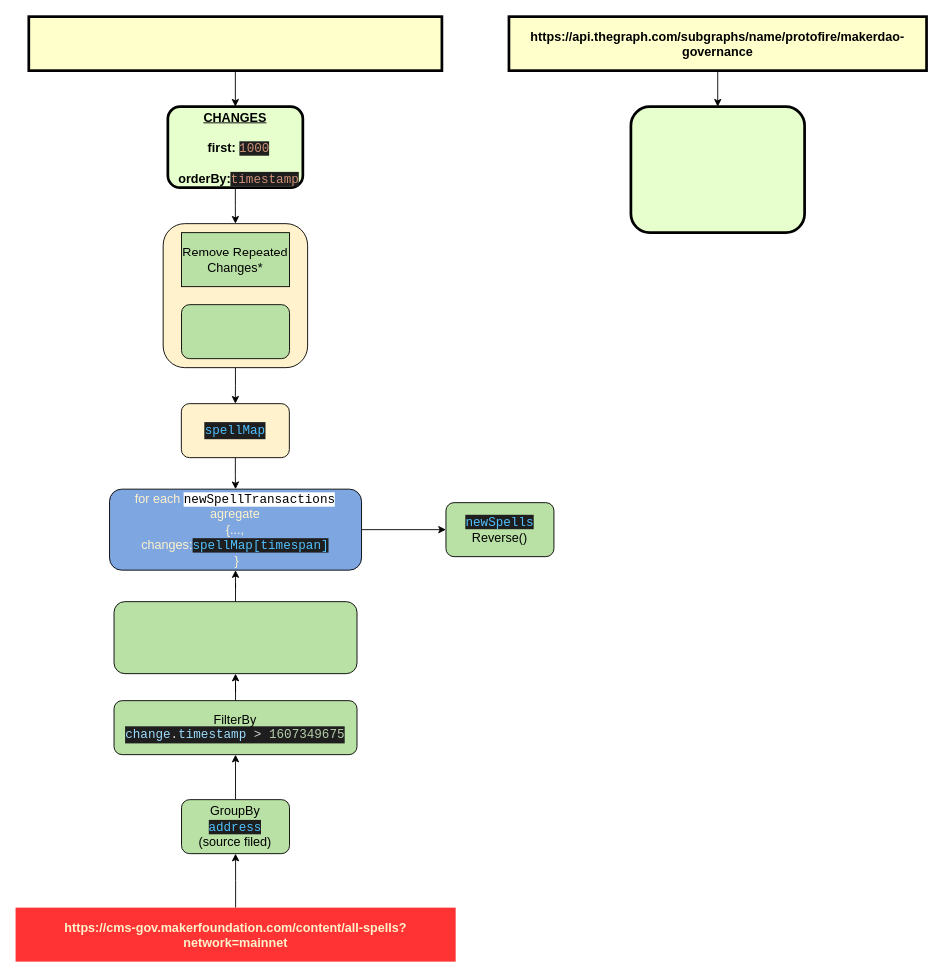
Some shapes in this 943 by 977 pixel diagram are drawn without their labels. The shapes that lost their labels are listed below. From the top down, each one's box as (x1, y1, x2, y2) in pixels, then its label:
(27, 15, 443, 72): https://api.thegraph.com/subgraphs/name/graphitetools/maker
(629, 105, 806, 234): CHANGES first: 1000 orderDirection: desc orderBy: timestamp
(181, 304, 290, 359): Group by timespan
(113, 601, 357, 674): newSpellTransactions UniqBy txHash
